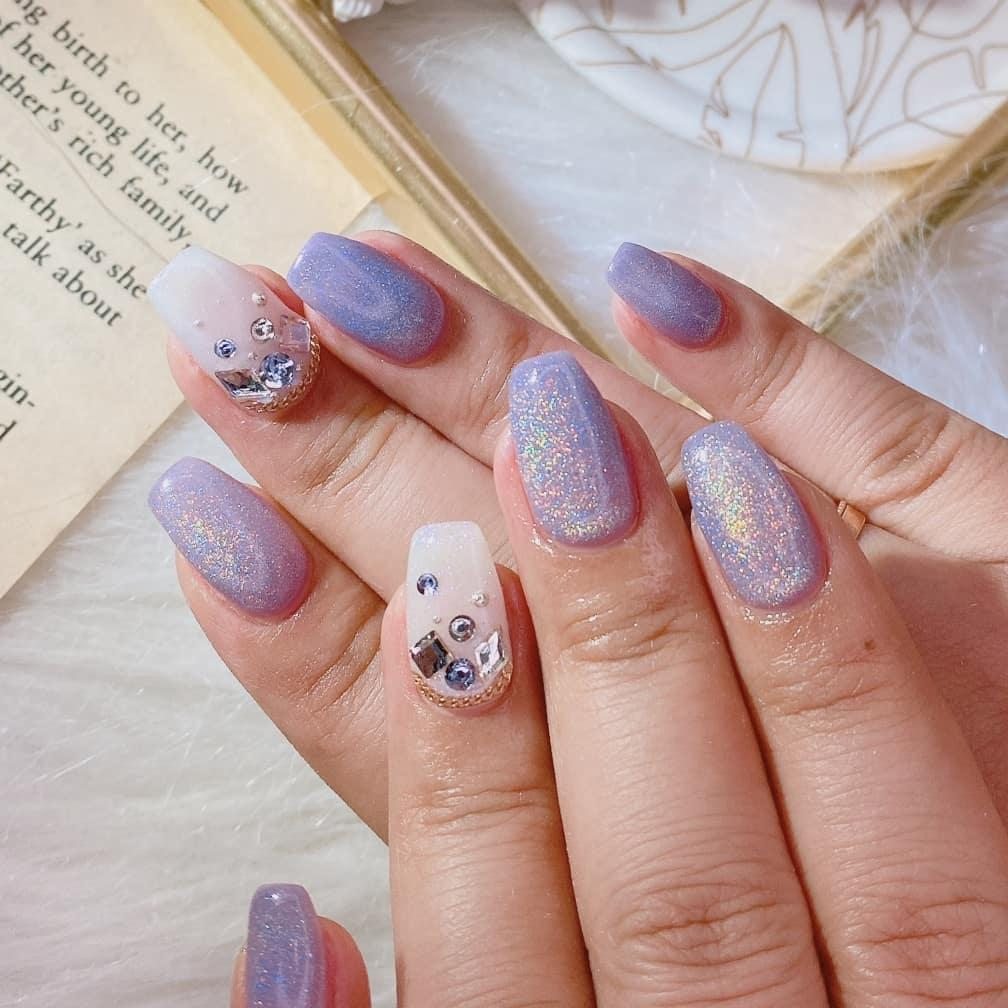nail: (146, 243, 320, 414), (679, 418, 829, 611), (147, 455, 314, 622), (504, 349, 641, 548), (403, 519, 515, 714), (286, 229, 446, 363), (229, 881, 370, 1006), (605, 240, 729, 349)
